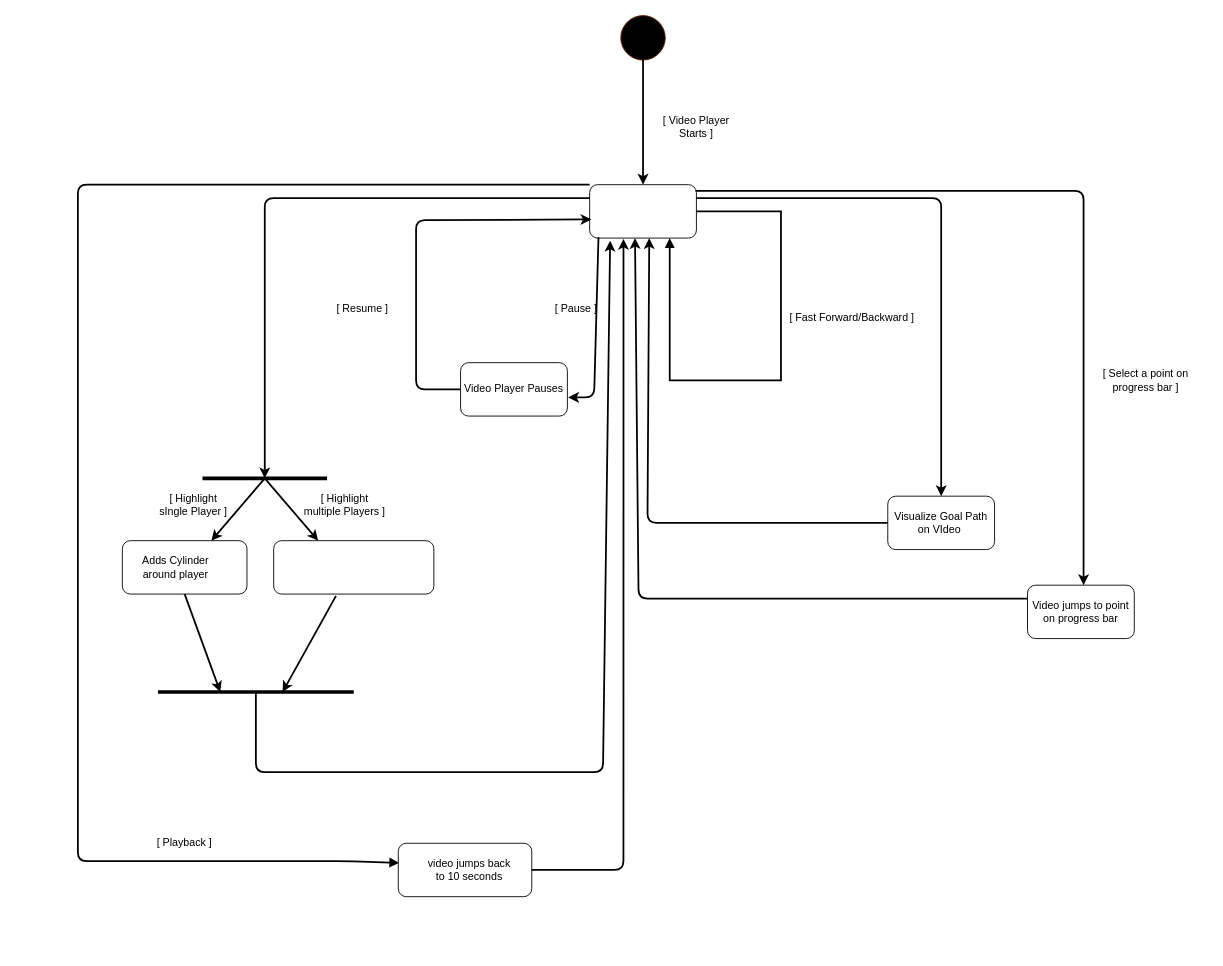
This 1223x966 diagram has some shape labels left out. Each missing label, with the centre of its shape:
"Creates dynamic polygon around players" goes at pixel 353 567.
"Match Video Playing" goes at pixel 642 211.
